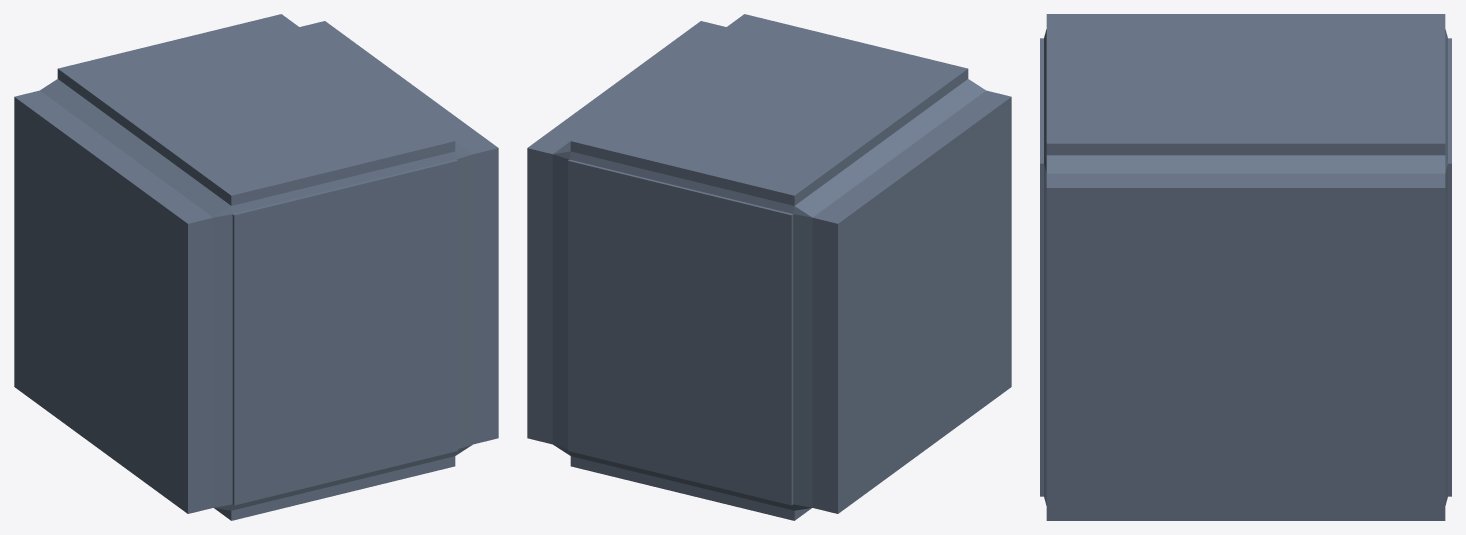
File: bb_comp_DiceTray_TraySideRail.fbx
The picture shows the model from 3 angles, left to right: view 1: azimuth 30°, elevation 25°; view 2: azimuth 150°, elevation 25°; view 3: azimuth 270°, elevation 25°; orthographic projection. The views are drawn at different scales.
Parts seen in each view (by area): view 1: bb_comp_DiceTray_TraySideRail; view 2: bb_comp_DiceTray_TraySideRail; view 3: bb_comp_DiceTray_TraySideRail.
Boxes of the visible parts, box(x1,y1,x2,y2) form: bb_comp_DiceTray_TraySideRail: box(14, 14, 498, 520); bb_comp_DiceTray_TraySideRail: box(527, 14, 1011, 520); bb_comp_DiceTray_TraySideRail: box(1040, 14, 1451, 520).
Bounding box in the file's own units: 1 × 1 × 1.
